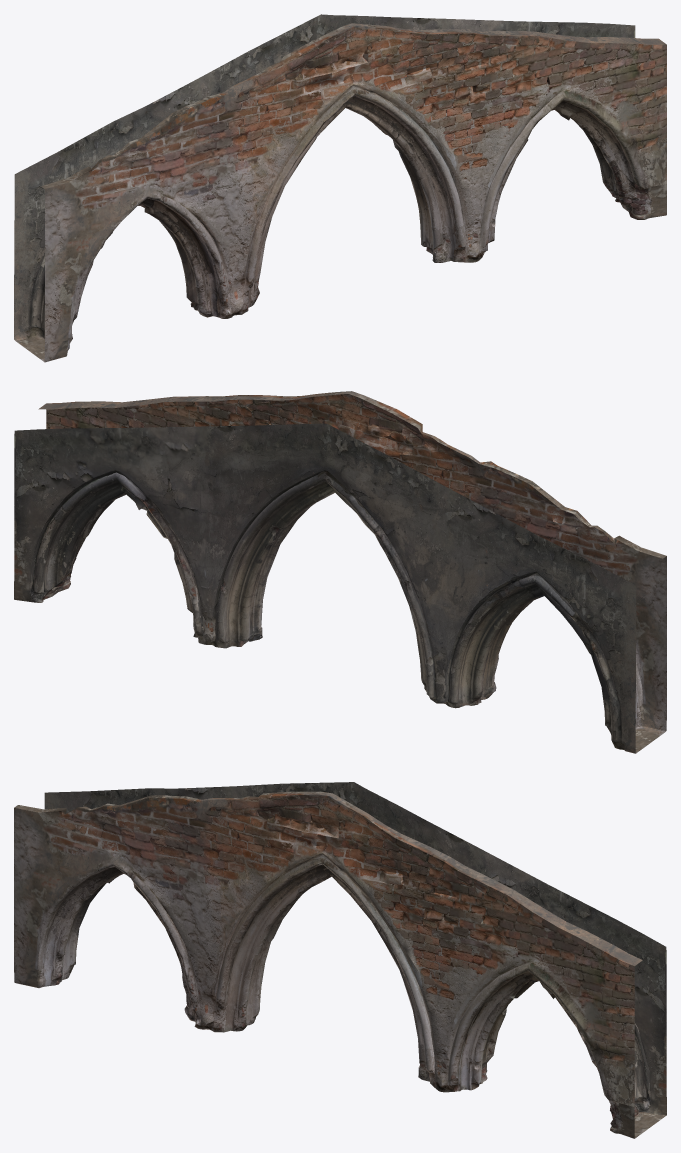
The model's file is SM_ChapelArch_01_01.fbx.
3 views of the same model, one above another, from view 1: azimuth 30°, elevation 25°; view 2: azimuth 150°, elevation 25°; view 3: azimuth 330°, elevation 25° (orthographic).
Visible parts, largest first — view 1: sm_ChapelArch_01_01_LOD0; view 2: sm_ChapelArch_01_01_LOD0; view 3: sm_ChapelArch_01_01_LOD0.
Part boxes in pixels (x1,y1,x2,y2): sm_ChapelArch_01_01_LOD0: (14, 14, 666, 362); sm_ChapelArch_01_01_LOD0: (14, 391, 666, 753); sm_ChapelArch_01_01_LOD0: (14, 782, 666, 1138).
Bounding box in the file's own units: 72.95 × 688 × 278.
